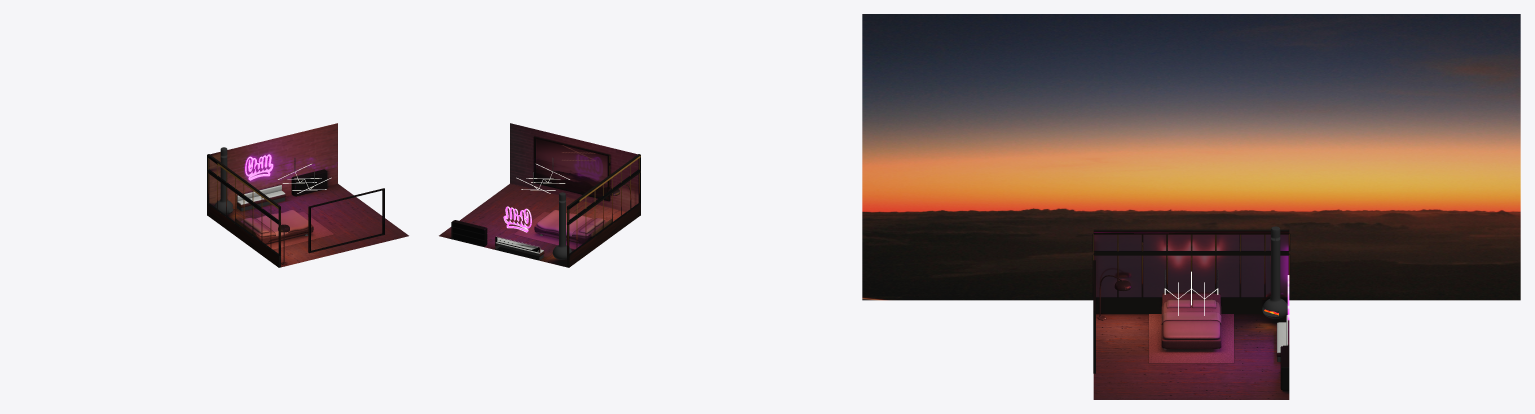
Rendered from modern_bedroom.glb.
3 views of the same model, side by side, from view 1: azimuth 30°, elevation 25°; view 2: azimuth 150°, elevation 25°; view 3: azimuth 270°, elevation 25° (orthographic). The views are drawn at different scales.
Parts seen in each view (by area): view 1: Modern Bedroom; view 2: Modern Bedroom; view 3: Backdrop, Modern Bedroom.
Part boxes in pixels (left/top/right/bottom): Modern Bedroom: left=207, top=123, right=408, bottom=267; Modern Bedroom: left=439, top=123, right=640, bottom=267; Backdrop: left=862, top=14, right=1520, bottom=300; Modern Bedroom: left=1092, top=226, right=1290, bottom=399.
Bounding box in the file's own units: 13.41 × 11.24 × 23.43.
Materials: 22 (17 with a texture image).
